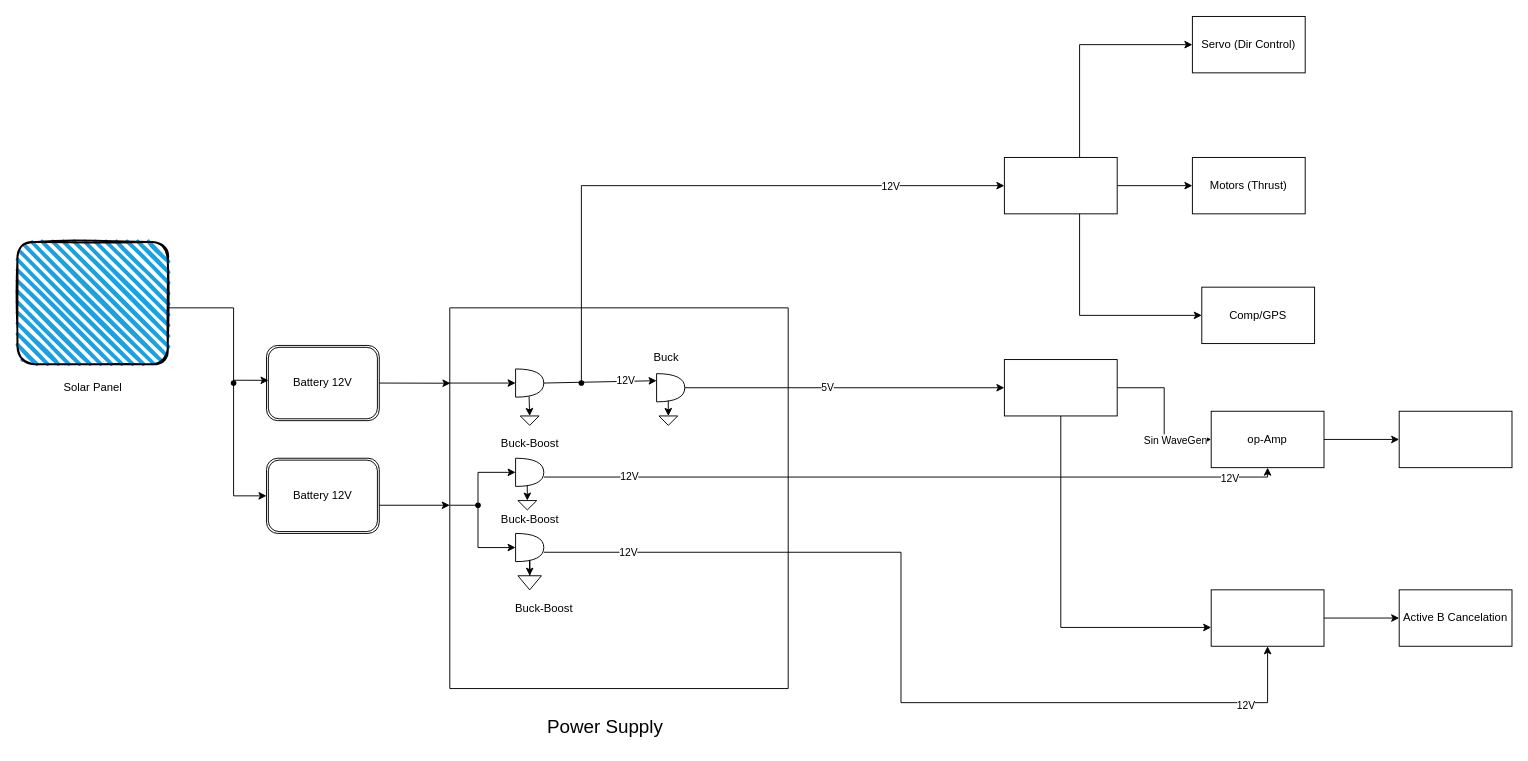
The diagram is 1528 pixels wide and 761 high, and some of its shapes have lost their labels. Here are the shapes that lost their labels. From the top down, the centre of each, then its label:
At point 1060,185: "FC".
At point 1060,387: "PI".
At point 1455,439: "Coil B Gen".
At point 1267,617: "Op-Amp (Opp phase)".
